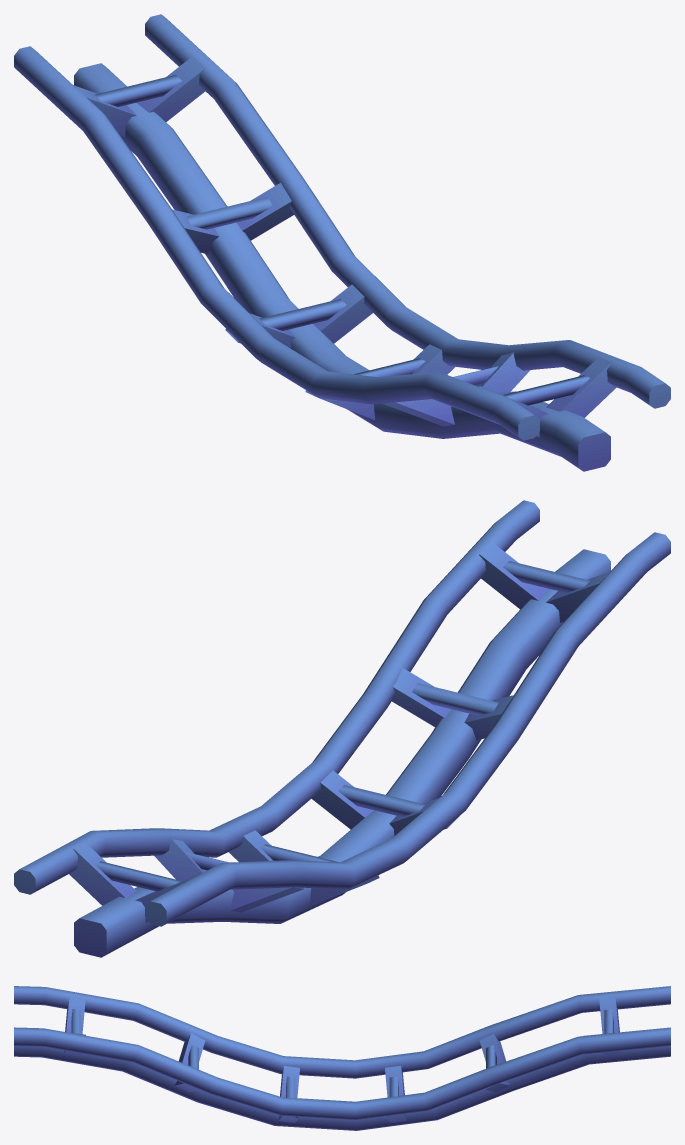
The model's file is coaster-steel-straight-bump-down.glb.
3 renders of one model, top to bottom at view 1: azimuth 30°, elevation 25°; view 2: azimuth 150°, elevation 25°; view 3: azimuth 270°, elevation 25°, orthographic. The views are drawn at different scales.
Visible parts, largest first — view 1: coaster-steel-straight-bump-down; view 2: coaster-steel-straight-bump-down; view 3: coaster-steel-straight-bump-down.
Part boxes in pixels (<box>): coaster-steel-straight-bump-down: <box>14,14,670,471</box>; coaster-steel-straight-bump-down: <box>14,500,670,957</box>; coaster-steel-straight-bump-down: <box>14,986,670,1130</box>.
Size of the model in its own units: 0.6997 by 0.7989 by 4.
Materials: 1 (1 with a texture image).
